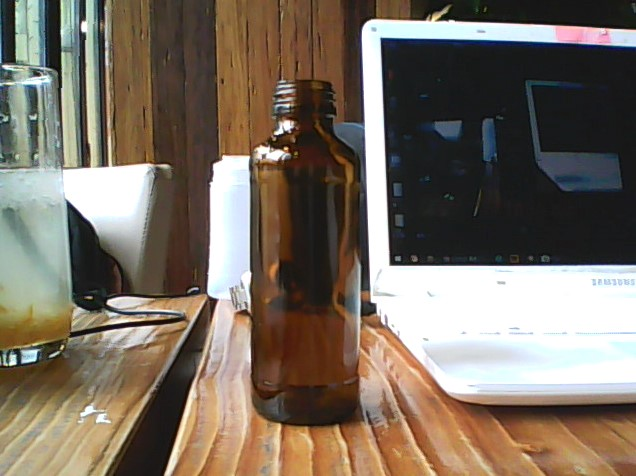Glass: (245, 74, 370, 431)
